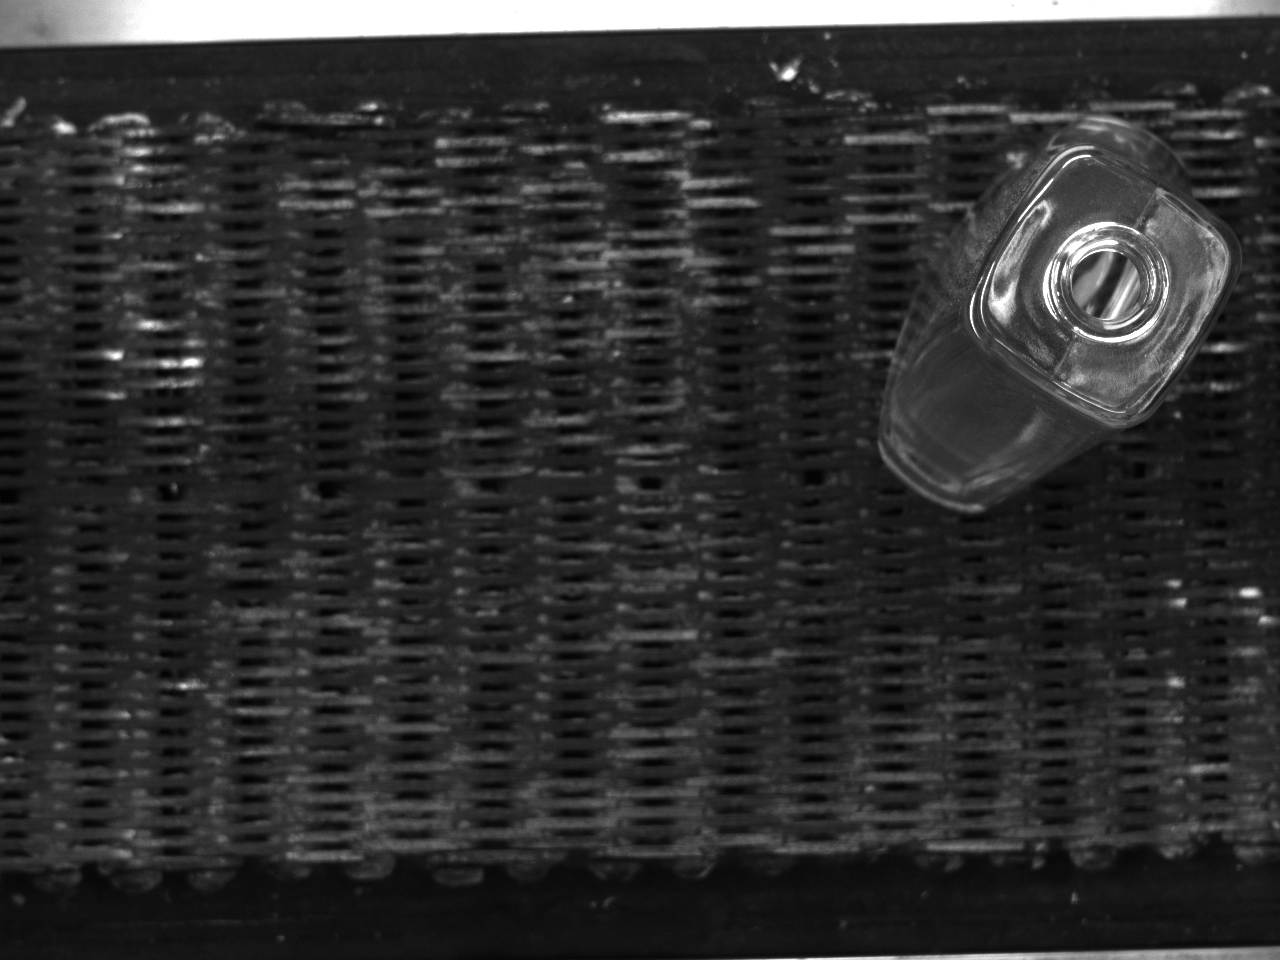bottleneck: (1049, 223, 1172, 340)
